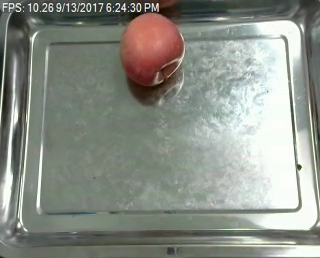Apple: (118, 6, 185, 92)
